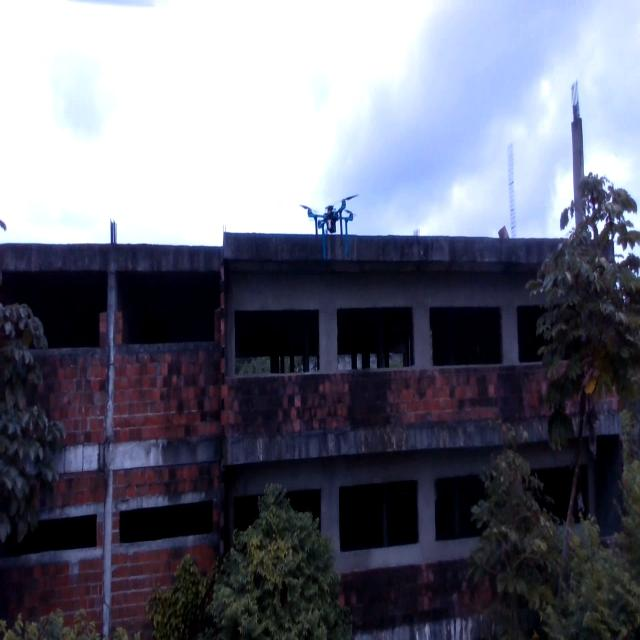-uav-: (294, 184, 364, 262)
